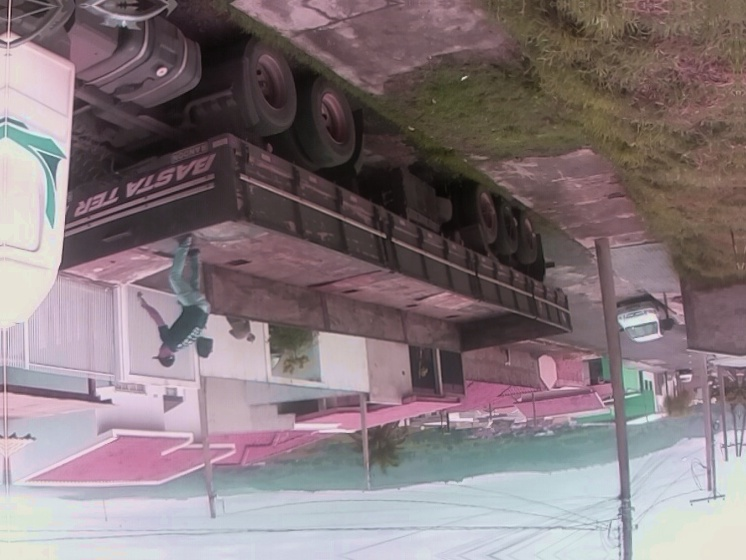person: (137, 233, 211, 368), (226, 314, 256, 344)
